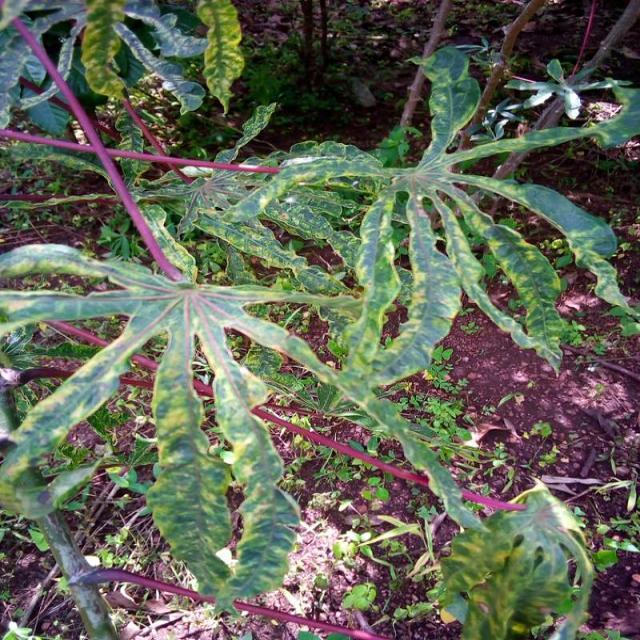cassava leaf: (1, 9, 637, 624), (438, 482, 594, 638)
